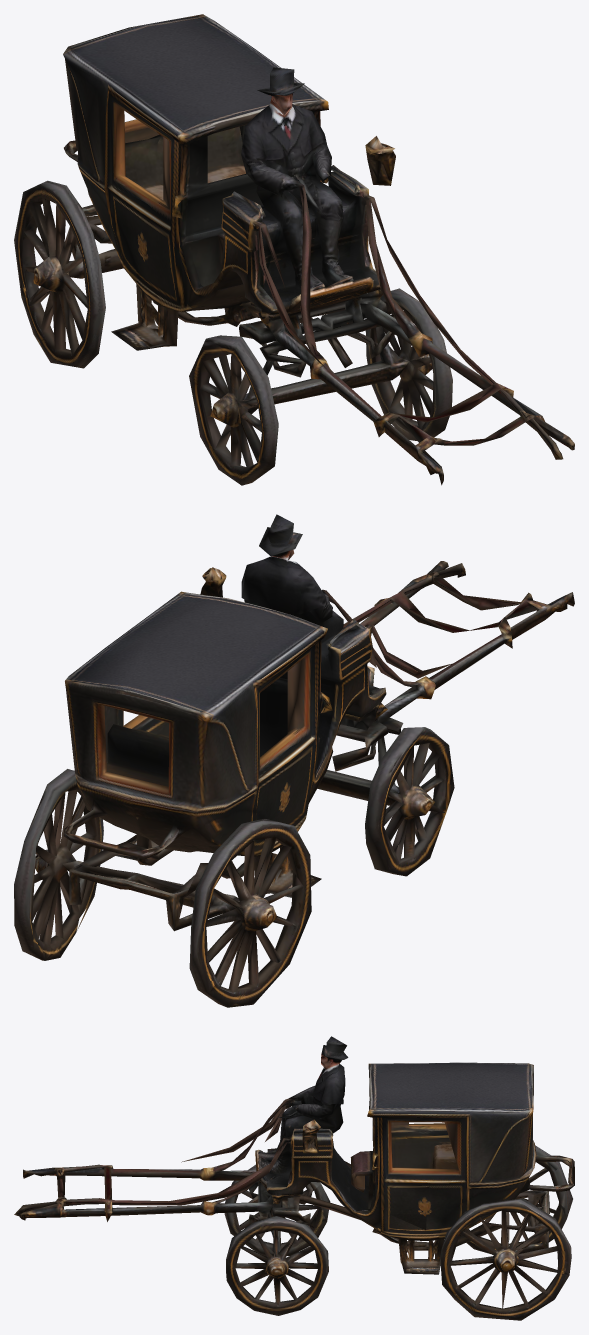
Rendered from Carriage_Articulated_v02.fbx.
3 renders of one model, top to bottom at view 1: azimuth 30°, elevation 25°; view 2: azimuth 150°, elevation 25°; view 3: azimuth 270°, elevation 25°, orthographic. The views are drawn at different scales.
Visible parts, largest first — view 1: Carriage_Body, Carriage_Forecarriage, Carriage_Rear_Left, Carriage_Front_Left, Carriage_Front_Right; view 2: Carriage_Body, Carriage_Rear_Left, Carriage_Forecarriage, Carriage_Rear_Right, Carriage_Front_Left; view 3: Carriage_Body, Carriage_Rear_Right, Carriage_Forecarriage, Carriage_Front_Right, Carriage_Front_Left, Carriage_Rear_Left.
Part boxes in pixels (box(x1,y1,x2,y2)): Carriage_Body: box(63, 14, 459, 372); Carriage_Forecarriage: box(239, 289, 574, 485); Carriage_Rear_Left: box(14, 180, 105, 368); Carriage_Front_Left: box(189, 335, 278, 485); Carriage_Front_Right: box(365, 288, 452, 440); Carriage_Body: box(62, 514, 453, 931); Carriage_Rear_Left: box(189, 818, 311, 1007); Carriage_Forecarriage: box(317, 561, 574, 805); Carriage_Rear_Right: box(14, 769, 103, 960); Carriage_Front_Left: box(365, 727, 454, 876); Carriage_Body: box(181, 1036, 574, 1274); Carriage_Rear_Right: box(440, 1198, 571, 1320); Carriage_Forecarriage: box(14, 1162, 312, 1252); Carriage_Front_Right: box(226, 1216, 328, 1315); Carriage_Front_Left: box(224, 1164, 330, 1255); Carriage_Rear_Left: box(459, 1145, 572, 1254).
Bounding box in the file's own units: 179 × 264 × 540.
1 material, 1 textured.
